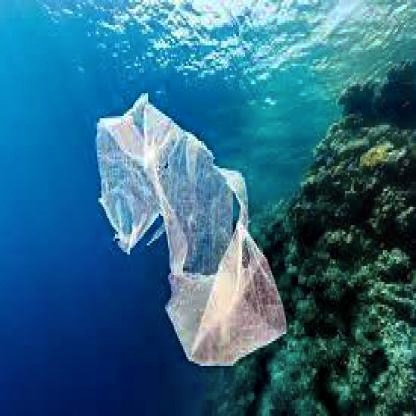pbag: (94, 91, 287, 370)
